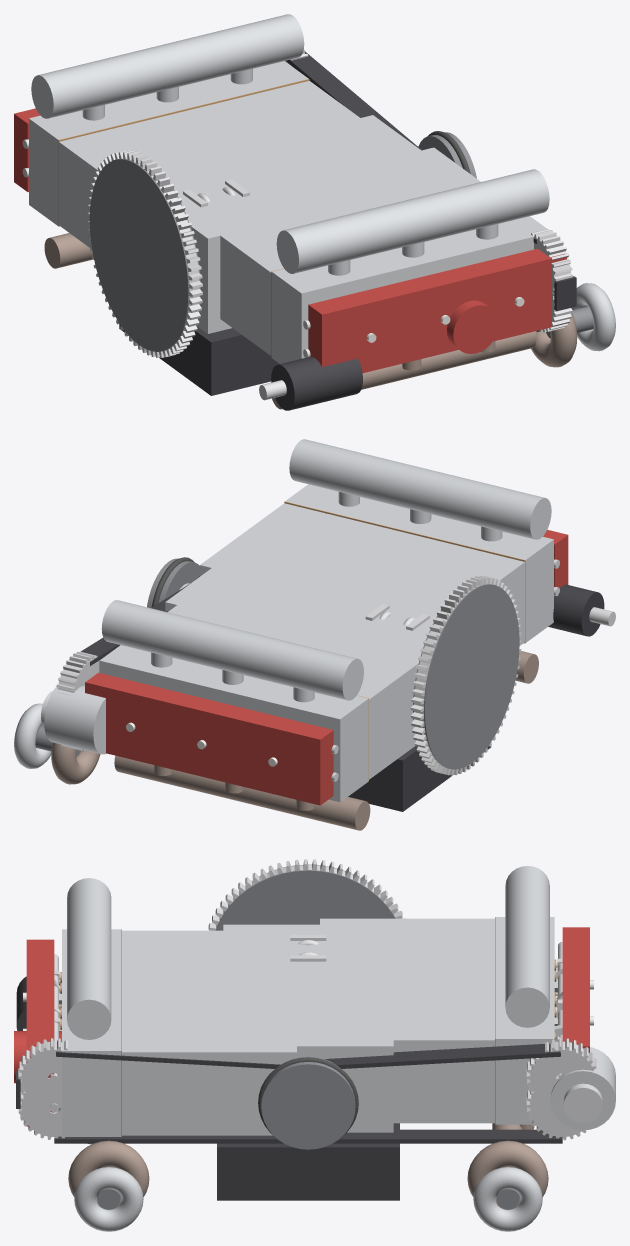
File: combustion_6_boxer_90p0_8p6_8p6_dohc_4_si_correa_nafta.glb
The picture shows the model from 3 angles, top to bottom: view 1: azimuth 30°, elevation 25°; view 2: azimuth 150°, elevation 25°; view 3: azimuth 270°, elevation 25°; orthographic projection. The views are drawn at different scales.
Parts seen in each view (by area): view 1: bloque, volante_inercia, tapa_valvulas_1, multiple_admision_1, multiple_admision_0, culata_1, culata_0, carter, motor_arranque, turbo_1, multiple_escape_1, distribucion_correa (+6 smaller); view 2: bloque, tapa_valvulas_0, volante_inercia, multiple_admision_1, multiple_admision_0, culata_0, culata_1, multiple_escape_0, alternador, turbo_0, carter, motor_arranque (+6 smaller); view 3: bloque, carter, distribucion_correa, volante_inercia, polea_ciguenal, culata_1, distribucion_poleas, multiple_admision_0, multiple_admision_1, turbo_0, turbo_1, culata_0 (+7 smaller).
Part boxes in pixels (left/top/right/bottom): bloque: left=59, top=81, right=480, bottom=355; volante_inercia: left=87, top=150, right=202, bottom=357; tapa_valvulas_1: left=308, top=248, right=566, bottom=373; multiple_admision_1: left=276, top=169, right=549, bottom=275; multiple_admision_0: left=31, top=14, right=304, bottom=120; culata_1: left=272, top=216, right=547, bottom=363; culata_0: left=29, top=61, right=308, bottom=226; carter: left=119, top=324, right=279, bottom=395; motor_arranque: left=259, top=357, right=362, bottom=410; turbo_1: left=531, top=283, right=615, bottom=367; multiple_escape_1: left=271, top=331, right=536, bottom=409; distribucion_correa: left=286, top=51, right=576, bottom=331; bloque: left=165, top=503, right=524, bottom=779; tapa_valvulas_0: left=85, top=672, right=333, bottom=805; volante_inercia: left=410, top=575, right=521, bottom=775; multiple_admision_1: left=289, top=439, right=551, bottom=541; multiple_admision_0: left=101, top=600, right=363, bottom=702; culata_0: left=99, top=645, right=368, bottom=802; culata_1: left=285, top=484, right=553, bottom=642; multiple_escape_0: left=114, top=755, right=370, bottom=830; alternador: left=41, top=685, right=106, bottom=754; turbo_0: left=14, top=703, right=100, bottom=784; carter: left=348, top=746, right=491, bottom=811; motor_arranque: left=548, top=584, right=615, bottom=636; bloque: left=122, top=918, right=494, bottom=1135; carter: left=217, top=1123, right=399, bottom=1200; distribucion_correa: left=16, top=1043, right=562, bottom=1143; volante_inercia: left=208, top=859, right=405, bottom=930; polea_ciguenal: left=258, top=1056, right=358, bottom=1149; culata_1: left=62, top=929, right=120, bottom=1136; distribucion_poleas: left=18, top=1038, right=597, bottom=1140; multiple_admision_0: left=505, top=866, right=549, bottom=1027; multiple_admision_1: left=67, top=878, right=111, bottom=1039; turbo_0: left=467, top=1140, right=548, bottom=1231; turbo_1: left=68, top=1140, right=149, bottom=1231; culata_0: left=496, top=917, right=554, bottom=1124.
Size of the model in its own units: 56.5 by 30.1 by 79.12.
